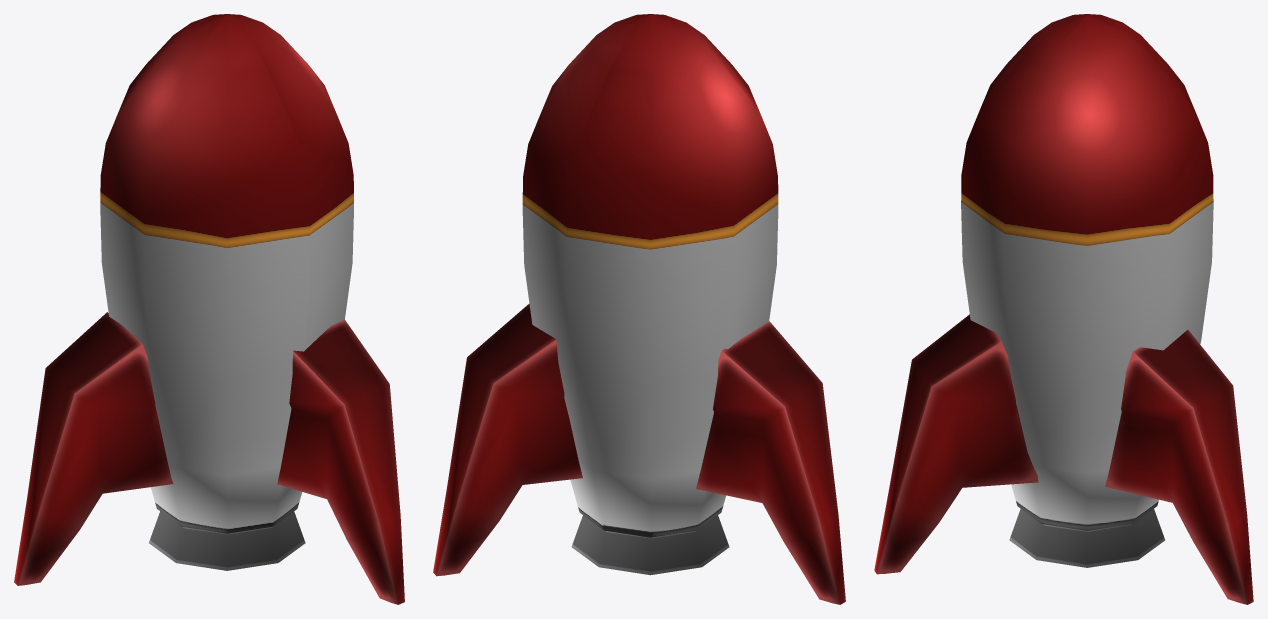
The model's file is rocket.FBX.
3 views of the same model, side by side, from view 1: azimuth 30°, elevation 25°; view 2: azimuth 150°, elevation 25°; view 3: azimuth 270°, elevation 25° (orthographic).
Parts seen in each view (by area): view 1: Cylinder001; view 2: Cylinder001; view 3: Cylinder001.
Boxes of the visible parts, <box> form: Cylinder001: <box>14,14,404,604</box>; Cylinder001: <box>433,14,845,604</box>; Cylinder001: <box>874,14,1253,604</box>.
Bounding box in the file's own units: 21.02 × 31.48 × 20.61.
